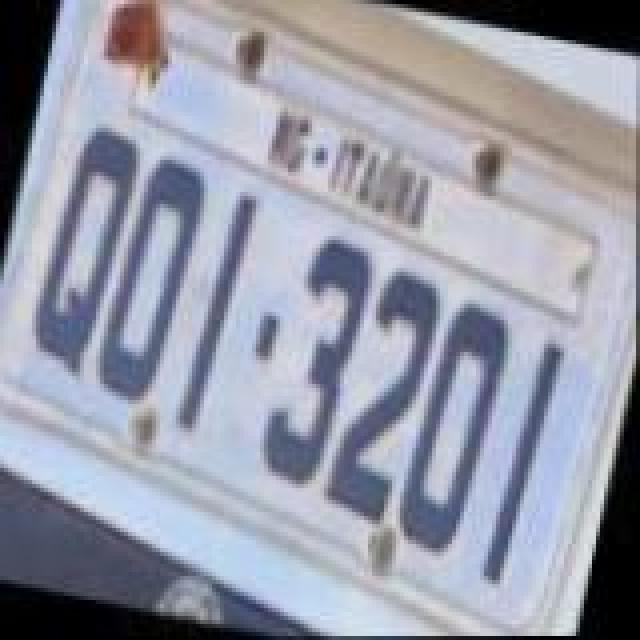1: (480, 332, 568, 588), (172, 182, 256, 434)
2: (316, 260, 444, 532)
3: (256, 224, 380, 492)
O: (390, 298, 514, 566), (88, 150, 212, 406)
Q: (22, 118, 146, 386)
